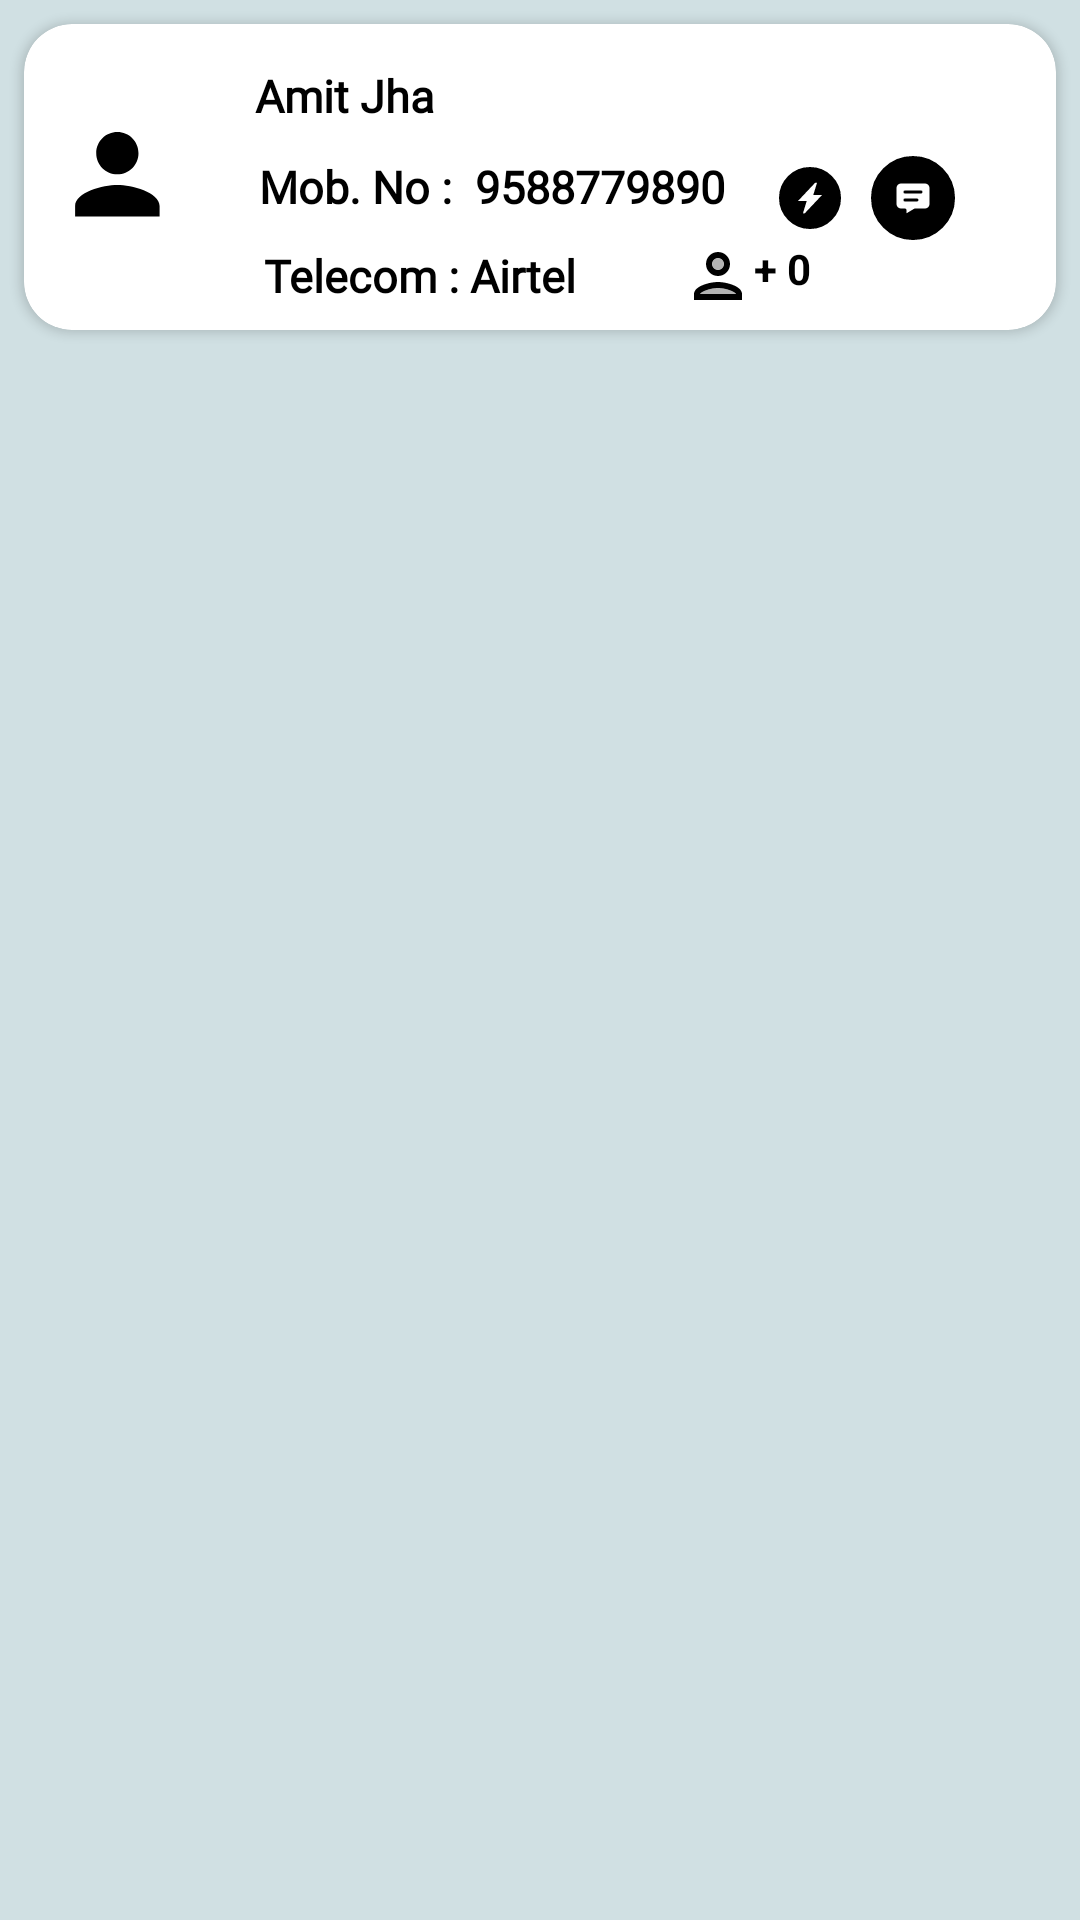

Icons on this 1080×1920 Android screen, each with the point to tap as point (x, y):
comment: point (913, 198)
flash: point (810, 198)
